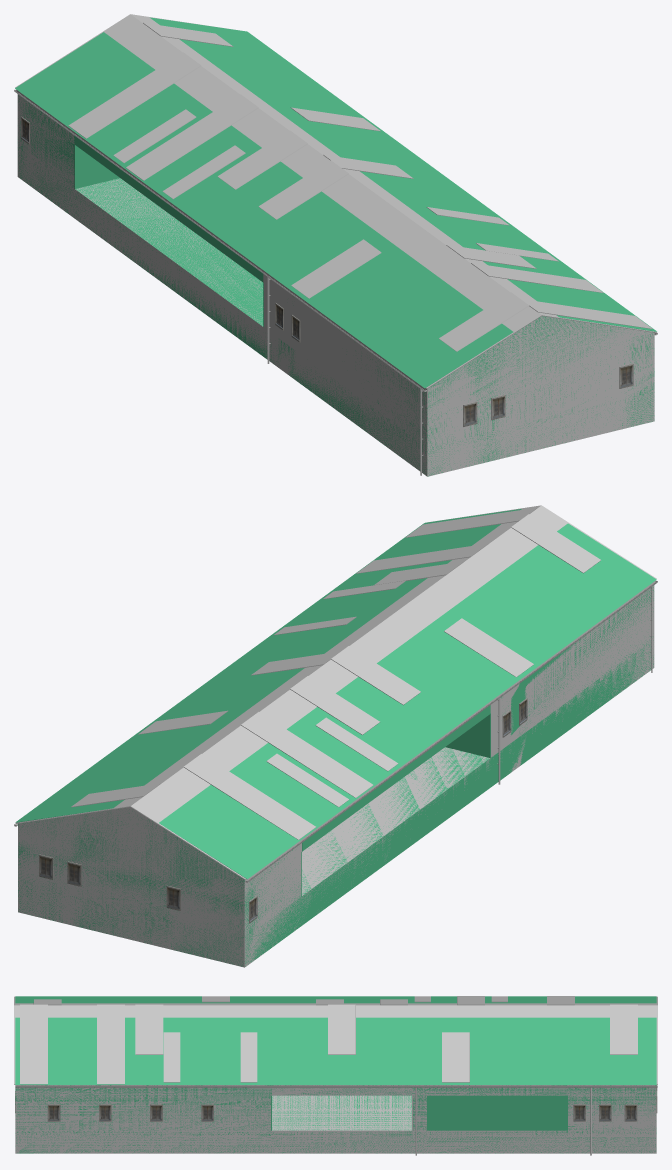
Rendered from ind_bld_08.dae.
3 views of the same model, one above another, from view 1: azimuth 30°, elevation 25°; view 2: azimuth 150°, elevation 25°; view 3: azimuth 270°, elevation 25° (orthographic). The views are drawn at different scales.
Parts seen in each view (by area): view 1: ind_bld_c300, Colmesh-1, nd_bld_c50, ind_bld_c80; view 2: Colmesh-1, ind_bld_c300, nd_bld_c50, ind_bld_c80; view 3: Colmesh-1, ind_bld_c300, nd_bld_c50, ind_bld_c80.
Boxes of the visible parts, box(x1,y1,x2,y2) form: ind_bld_c300: box(14, 14, 657, 476); Colmesh-1: box(15, 17, 656, 476); nd_bld_c50: box(17, 97, 654, 476); ind_bld_c80: box(14, 90, 657, 475); Colmesh-1: box(15, 509, 656, 966); ind_bld_c300: box(14, 505, 657, 967); nd_bld_c50: box(18, 588, 654, 966); ind_bld_c80: box(14, 581, 657, 920); Colmesh-1: box(15, 996, 656, 1153); ind_bld_c300: box(14, 996, 657, 1155); nd_bld_c50: box(15, 1085, 656, 1153); ind_bld_c80: box(15, 1086, 657, 1155).
Bounding box in the file's own units: 16.47 × 50.21 × 9.18.
